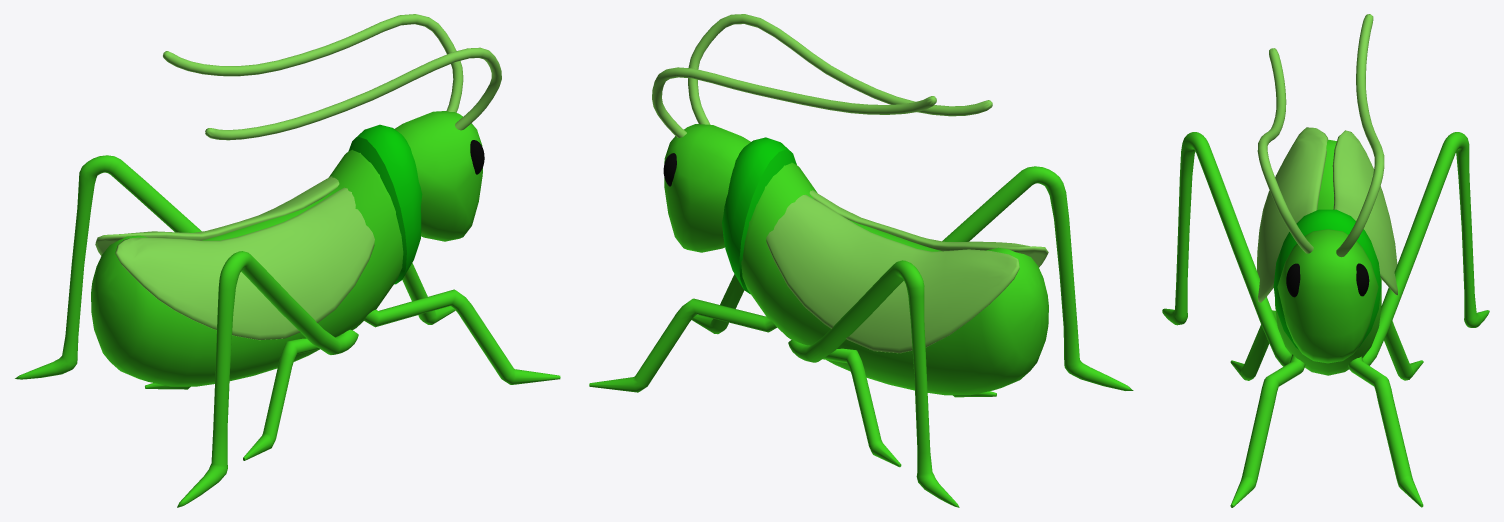
The model's file is 0r5WfGCgn_3.glb.
3 renders of one model, left to right at view 1: azimuth 30°, elevation 25°; view 2: azimuth 150°, elevation 25°; view 3: azimuth 270°, elevation 25°, orthographic. The views are drawn at different scales.
Parts seen in each view (by area): view 1: Sphere002; view 2: Sphere002; view 3: Sphere002.
Part boxes in pixels (x1,y1,x2,y2): Sphere002: (15,14,560,507); Sphere002: (589,14,1133,507); Sphere002: (1162,14,1489,507).
Size of the model in its own units: 1.22 by 1 by 0.8519.
